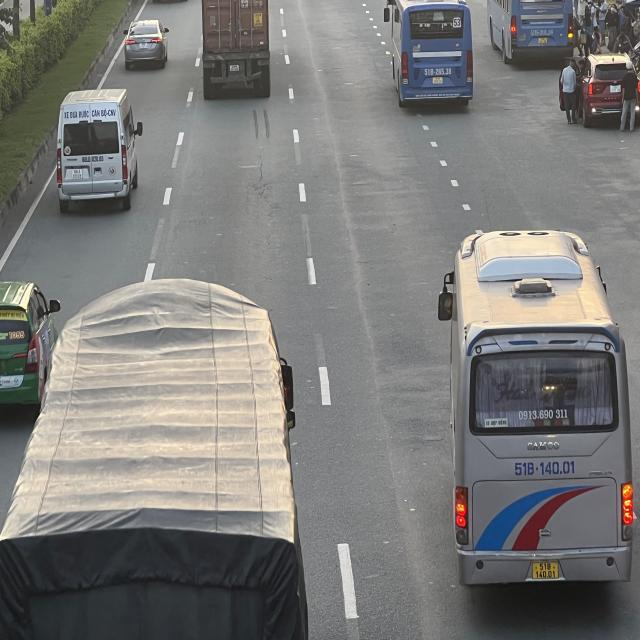car: (0, 280, 60, 417), (125, 22, 171, 72)
coach: (447, 230, 633, 597), (386, 1, 474, 109), (488, 0, 574, 61)
container: (200, 2, 272, 102)
truck: (0, 274, 304, 640)
van: (53, 88, 142, 212)
